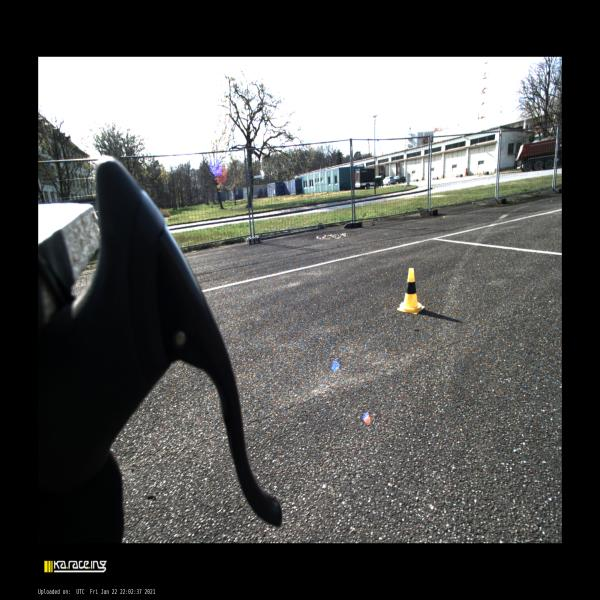yellow_cone: (397, 268, 424, 314)
